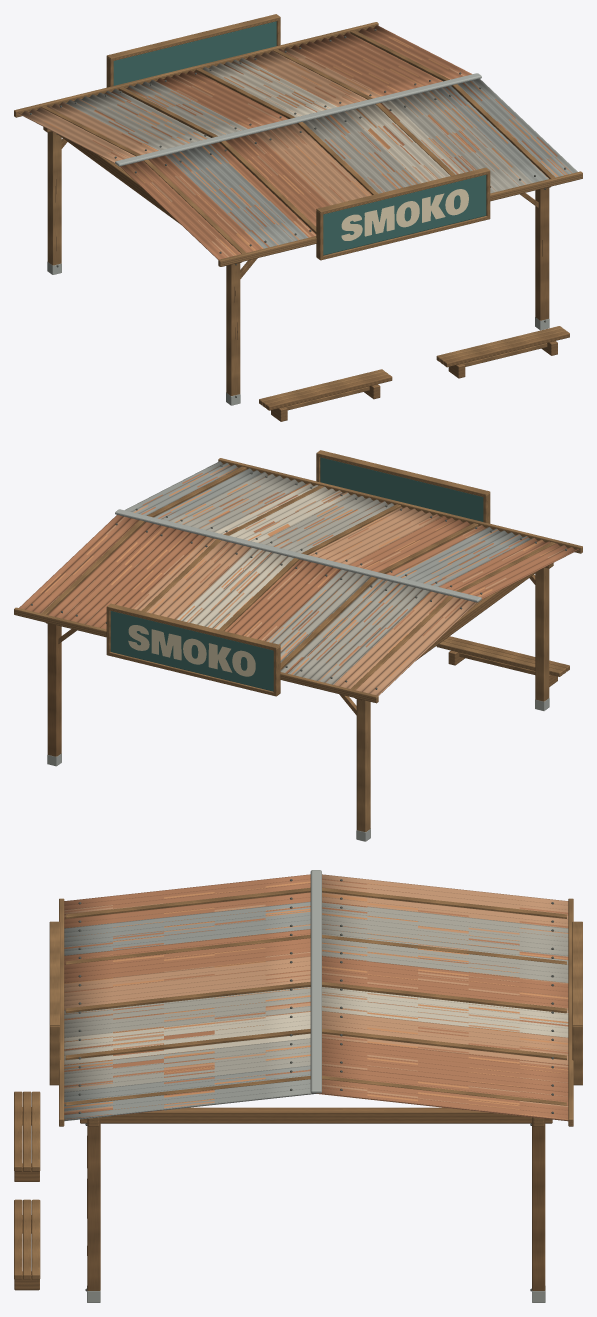
The model's file is smoko_shelter.glb.
The picture shows the model from 3 angles, top to bottom: view 1: azimuth 30°, elevation 25°; view 2: azimuth 150°, elevation 25°; view 3: azimuth 270°, elevation 25°; orthographic projection. The views are drawn at different scales.
Parts seen in each view (by area): view 1: BushServo_SmokoShelter.003; view 2: BushServo_SmokoShelter.003; view 3: BushServo_SmokoShelter.003.
Boxes of the visible parts, left/top/right/bottom form: BushServo_SmokoShelter.003: left=14, top=14, right=582, bottom=421; BushServo_SmokoShelter.003: left=14, top=450, right=582, bottom=841; BushServo_SmokoShelter.003: left=14, top=870, right=582, bottom=1302.
Size of the model in its own units: 9.4 by 4.62 by 10.23.
16 materials, 5 textured.
